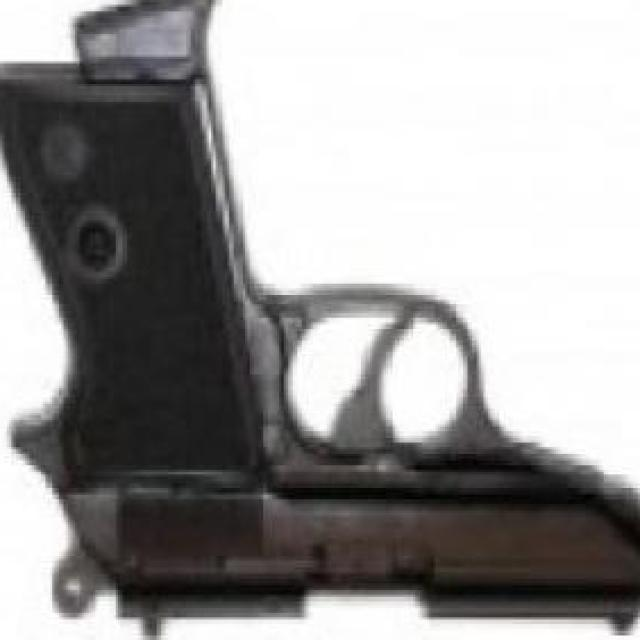pistol: (20, 34, 640, 640)
